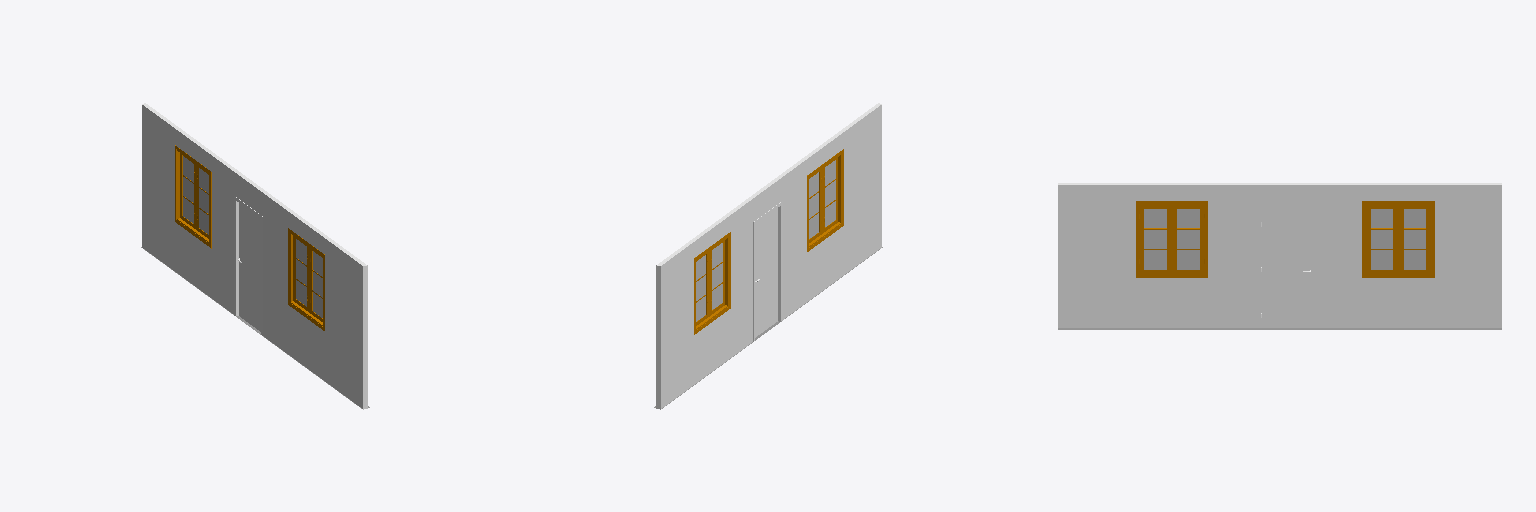
File: Frente.obj
3 views of the same model, side by side, from view 1: azimuth 30°, elevation 25°; view 2: azimuth 150°, elevation 25°; view 3: azimuth 270°, elevation 25° (orthographic).
Parts seen in each view (by area): view 1: wall_1_5, sweethome3d_opening_on_hinge_1_door_16, CageIn_40, frame_8, CageIn_20, sweethome3d_window_pane_on_hinge_1_28, sweethome3d_window_pane_on_hinge_1_48, sweethome3d_window_pane_on_hinge_2_36, sweethome3d_window_pane_on_hinge_2_56; view 2: wall_1_5, sweethome3d_opening_on_hinge_1_door_16, CageIn_20, CageIn_40, frame_8, sweethome3d_window_pane_on_hinge_2_56, sweethome3d_window_pane_on_hinge_2_36, sweethome3d_window_pane_on_hinge_1_28, sweethome3d_window_pane_on_hinge_1_48; view 3: wall_1_4, sweethome3d_opening_on_hinge_1_door_16, sweethome3d_window_pane_on_hinge_1_28, sweethome3d_window_pane_on_hinge_2_36, sweethome3d_window_pane_on_hinge_1_48, sweethome3d_window_pane_on_hinge_2_56, CageOut_39, CageOut_19, ground_1, sweethome3d_opening_on_hinge_1_out_44, sweethome3d_opening_on_hinge_2_out_52, frame_8 (+2 smaller).
Boxes of the visible parts, box(x1,y1,x2,y2) form: wall_1_5: box(142, 105, 365, 409); sweethome3d_opening_on_hinge_1_door_16: box(239, 203, 260, 331); CageIn_40: box(175, 145, 211, 248); frame_8: box(234, 196, 262, 335); CageIn_20: box(288, 228, 324, 330); sweethome3d_window_pane_on_hinge_1_28: box(296, 239, 306, 306); sweethome3d_window_pane_on_hinge_1_48: box(183, 156, 193, 223); sweethome3d_window_pane_on_hinge_2_36: box(313, 251, 322, 317); sweethome3d_window_pane_on_hinge_2_56: box(199, 168, 208, 234); wall_1_5: box(658, 105, 881, 409); sweethome3d_opening_on_hinge_1_door_16: box(755, 208, 777, 337); CageIn_20: box(807, 149, 843, 251); CageIn_40: box(694, 232, 730, 334); frame_8: box(753, 201, 782, 341); sweethome3d_window_pane_on_hinge_2_56: box(712, 243, 722, 309); sweethome3d_window_pane_on_hinge_2_36: box(825, 160, 835, 226); sweethome3d_window_pane_on_hinge_1_28: box(809, 172, 818, 238); sweethome3d_window_pane_on_hinge_1_48: box(696, 255, 705, 321); wall_1_4: box(1058, 185, 1501, 327); sweethome3d_opening_on_hinge_1_door_16: box(1261, 211, 1312, 327); sweethome3d_window_pane_on_hinge_1_28: box(1177, 209, 1199, 269); sweethome3d_window_pane_on_hinge_2_36: box(1144, 209, 1166, 269); sweethome3d_window_pane_on_hinge_1_48: box(1404, 209, 1425, 269); sweethome3d_window_pane_on_hinge_2_56: box(1371, 209, 1392, 269); CageOut_39: box(1362, 201, 1434, 277); CageOut_19: box(1136, 201, 1207, 277); ground_1: box(1058, 328, 1501, 329); sweethome3d_opening_on_hinge_1_out_44: box(1399, 205, 1430, 273); sweethome3d_opening_on_hinge_2_out_52: box(1366, 205, 1397, 273); frame_8: box(1258, 209, 1315, 327).
Bounding box in the file's own units: 14.5 × 250 × 702.